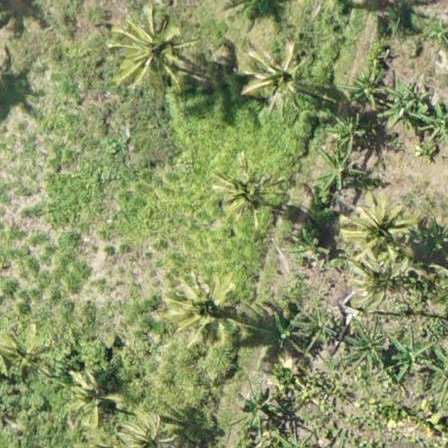palm_tree: (113, 4, 189, 85), (342, 192, 416, 270), (243, 37, 309, 108), (213, 163, 275, 223), (170, 277, 233, 336), (65, 366, 120, 424), (122, 409, 182, 448)
